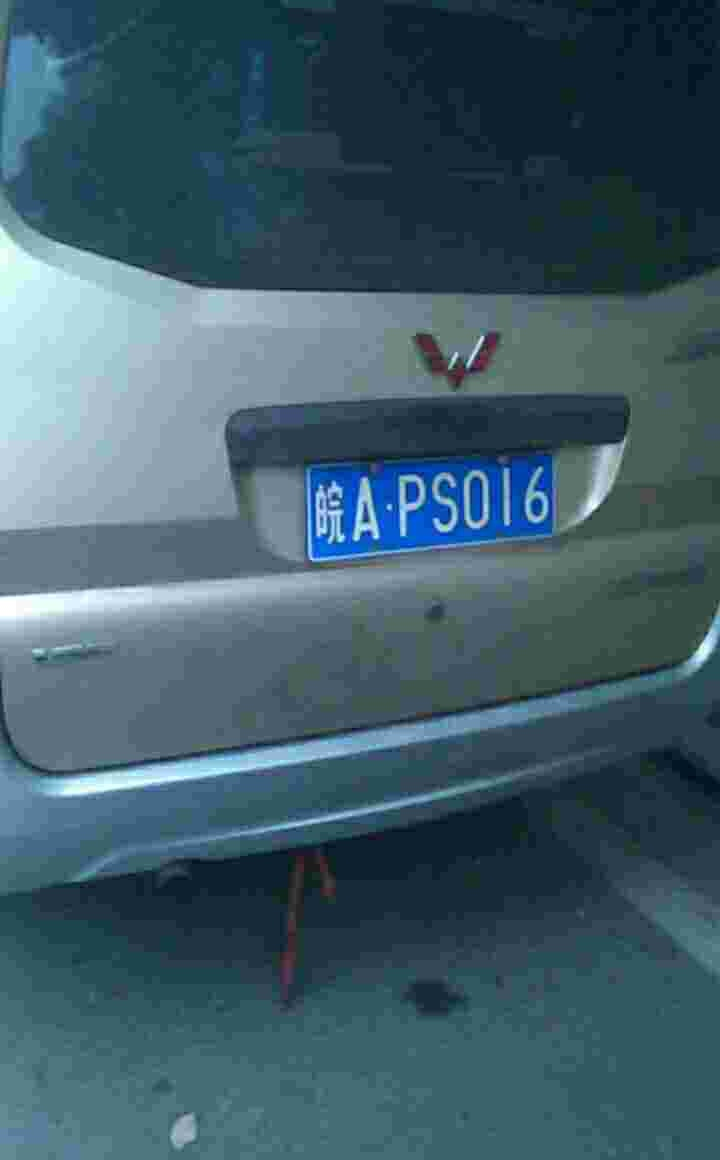license_plate: (313, 451, 570, 564)
